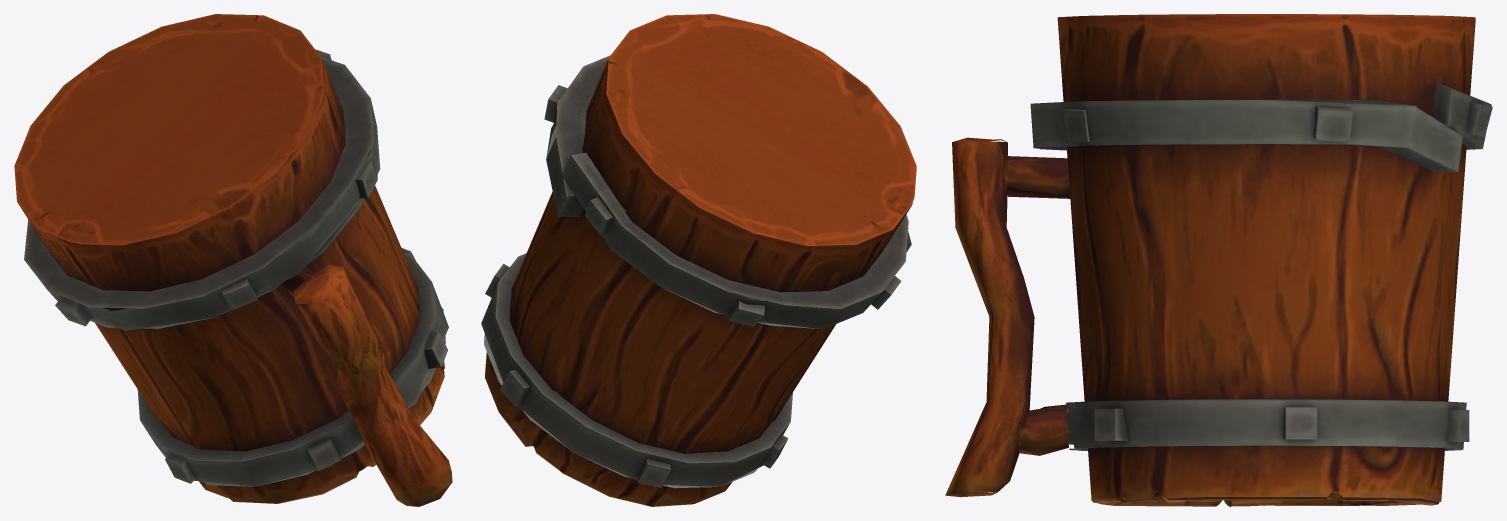
The picture shows the model from 3 angles, left to right: view 1: azimuth 30°, elevation 25°; view 2: azimuth 150°, elevation 25°; view 3: azimuth 270°, elevation 25°; orthographic projection. The views are drawn at different scales.
Parts seen in each view (by area): view 1: base_low, rim_02_low, handle_low, rim_01_low, rim_details_low; view 2: base_low, rim_02_low, rim_01_low, rim_details_low; view 3: base_low, handle_low, rim_02_low, rim_01_low, rim_details_low.
Part boxes in pixels (box(x1,y1,x2,y2)): base_low: box(14, 14, 444, 503); rim_02_low: box(24, 57, 380, 330); handle_low: box(282, 264, 452, 506); rim_01_low: box(137, 252, 448, 486); rim_details_low: box(55, 49, 447, 483); base_low: box(485, 14, 916, 506); rim_02_low: box(546, 55, 911, 329); rim_01_low: box(481, 253, 792, 488); rim_details_low: box(485, 85, 901, 487); base_low: box(1057, 14, 1475, 506); handle_low: box(945, 137, 1070, 497); rim_02_low: box(1030, 82, 1491, 172); rim_01_low: box(1066, 399, 1466, 450); rim_details_low: box(1063, 102, 1492, 444).
Bounding box in the file's own units: 319 × 341 × 309.
Materials: 1 (1 with a texture image).
